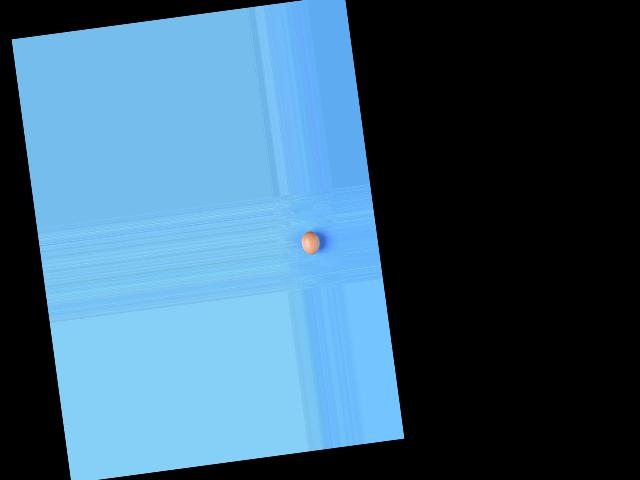egg: (300, 230, 322, 255)
